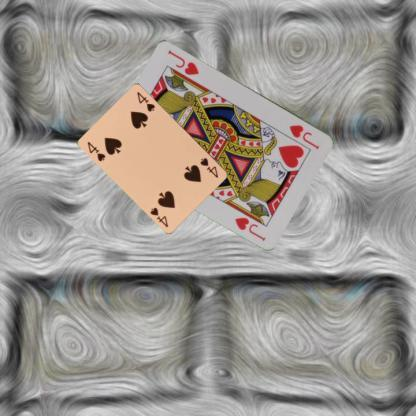4s: (198, 155, 220, 179), (85, 139, 107, 163)
Jh: (287, 122, 321, 151)
